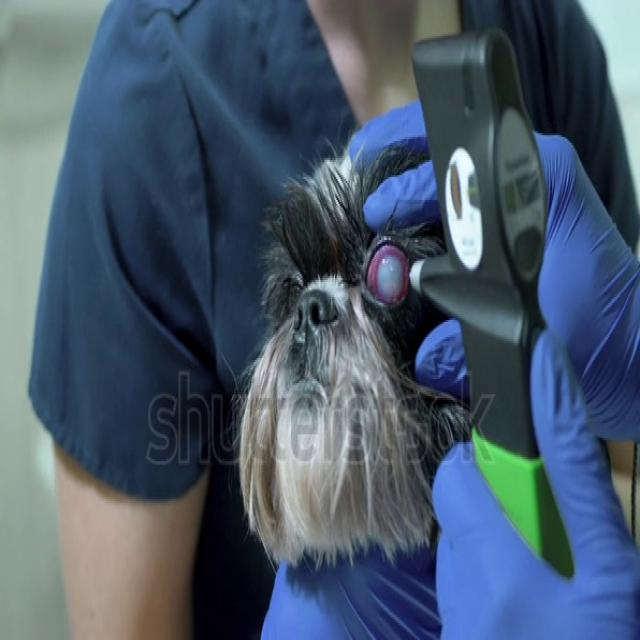injured-animals: (250, 137, 618, 640), (354, 228, 469, 396)
